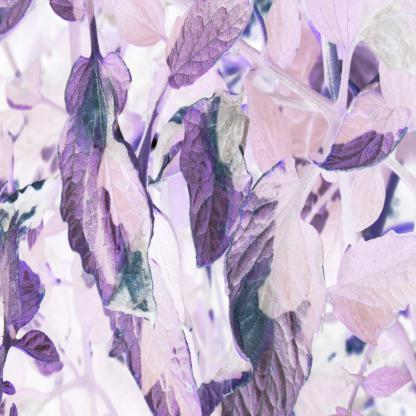Potato leaf: (53, 49, 160, 334), (224, 204, 331, 382), (176, 89, 252, 272)
